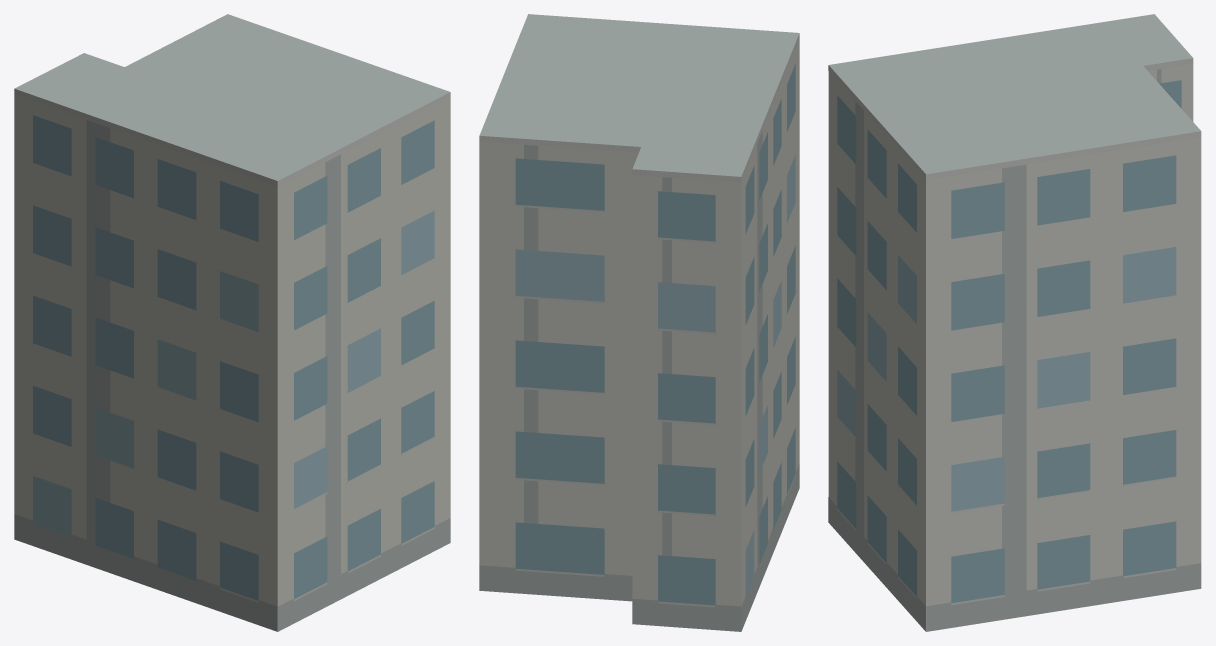
Rendered from survey-upis-32847307.glb.
The picture shows the model from 3 angles, left to right: view 1: azimuth 30°, elevation 25°; view 2: azimuth 150°, elevation 25°; view 3: azimuth 270°, elevation 25°; orthographic projection.
Parts seen in each view (by area): view 1: survey-upis-32847307.tmp; view 2: survey-upis-32847307.tmp; view 3: survey-upis-32847307.tmp.
Part boxes in pixels (x1,y1,x2,y2): survey-upis-32847307.tmp: [14, 14, 450, 631]; survey-upis-32847307.tmp: [479, 14, 799, 631]; survey-upis-32847307.tmp: [828, 14, 1201, 631].
Bounding box in the file's own units: 14.23 × 18.92 × 13.98.
